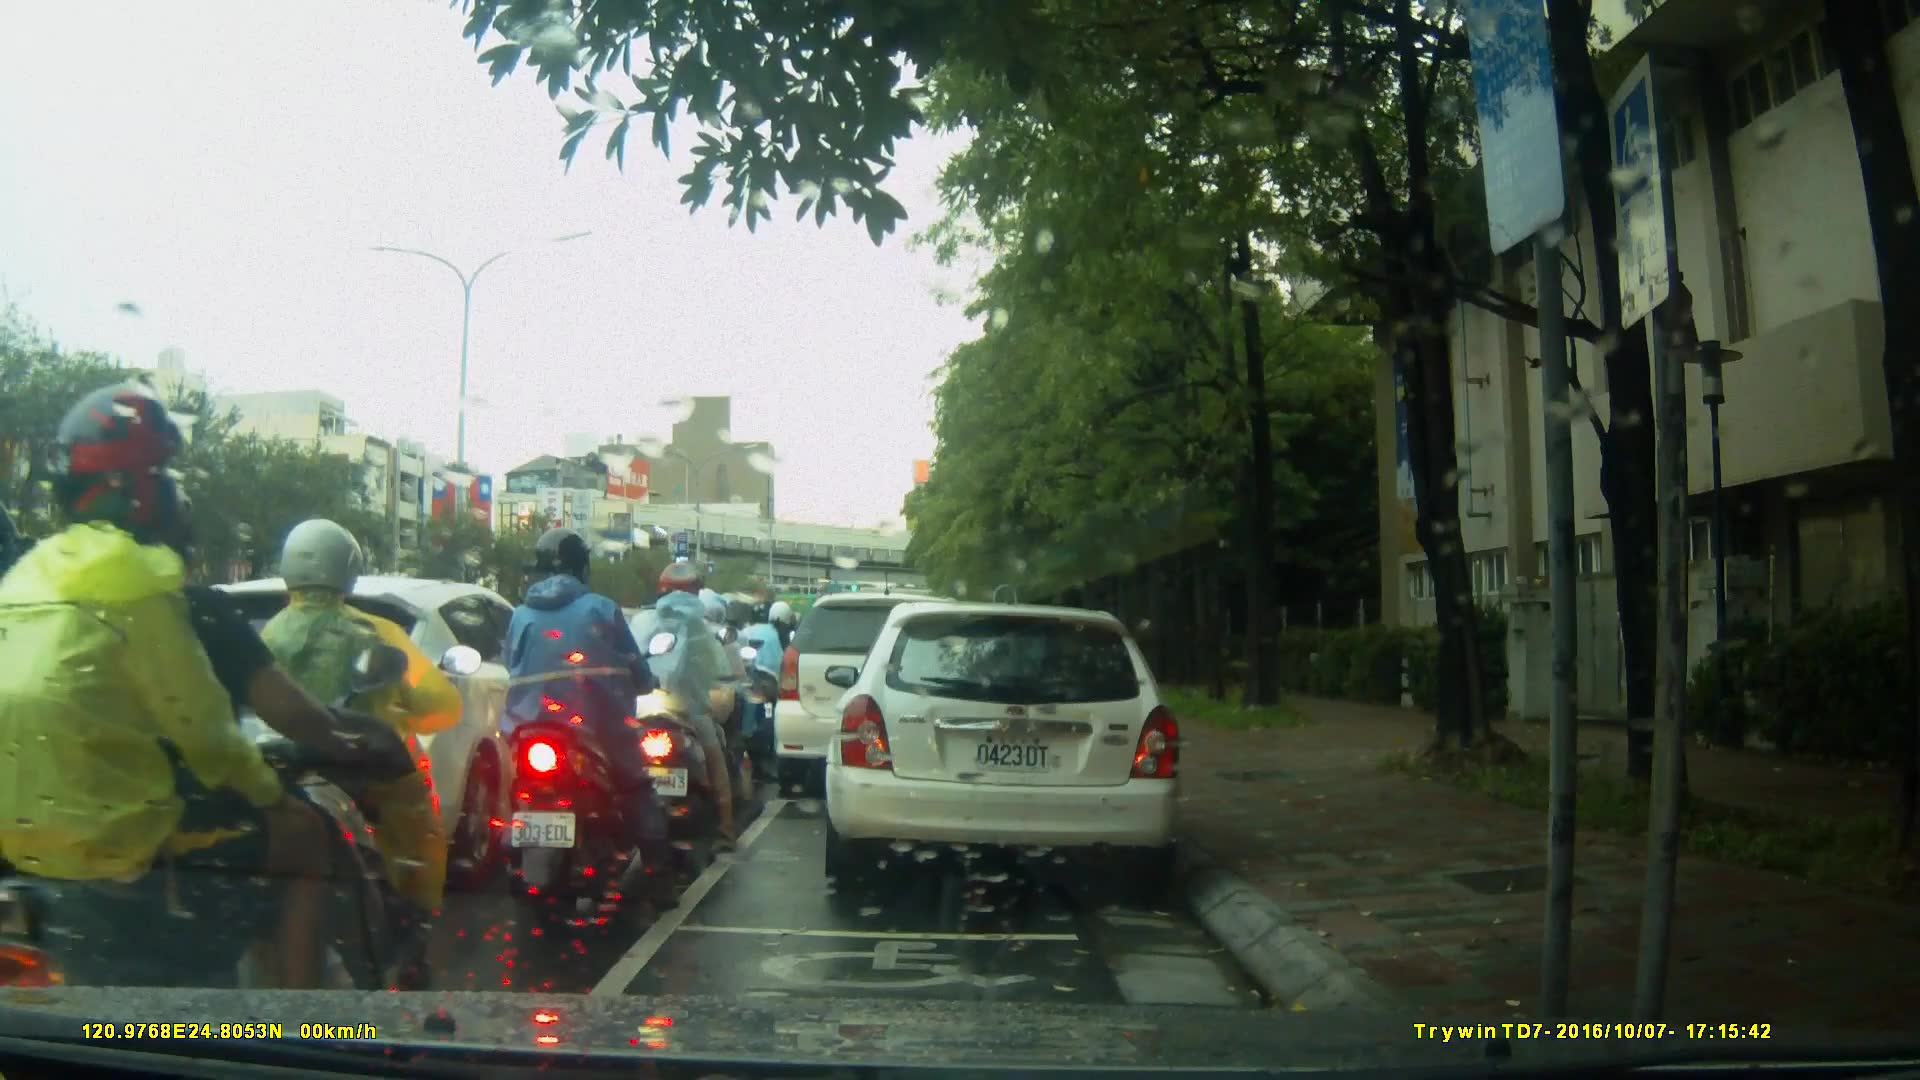rider: (8, 378, 389, 1062), (237, 522, 476, 1002), (498, 528, 682, 912), (611, 560, 736, 845), (654, 584, 761, 823), (735, 598, 795, 753)
vehicle: (163, 575, 601, 864), (822, 604, 1188, 883), (774, 595, 995, 802)
